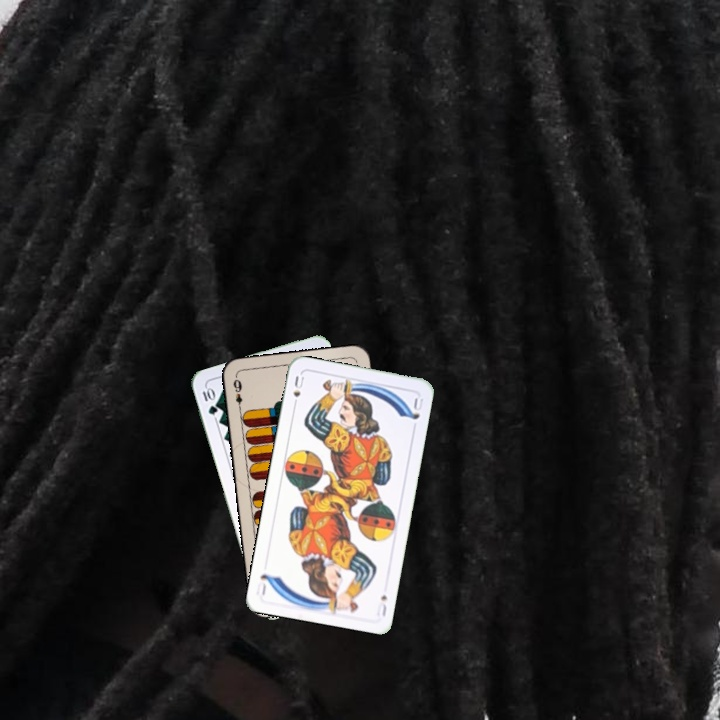E9: (229, 373, 245, 414)
G10: (198, 384, 220, 418)
SU: (289, 372, 307, 411), (372, 591, 389, 619)
